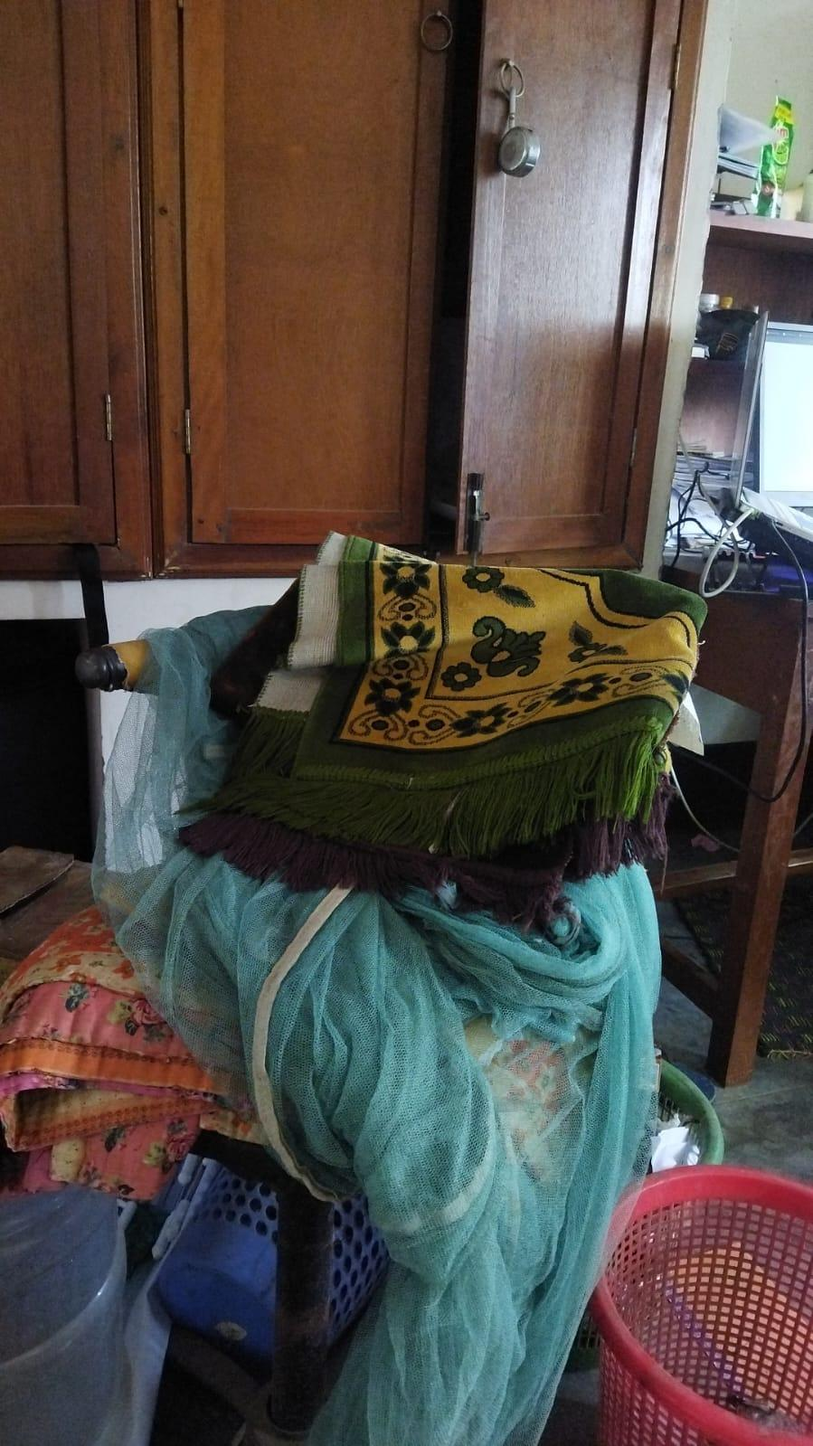Basket: (607, 1129, 813, 1440), (172, 1148, 367, 1364)
Lock: (485, 42, 552, 191)
